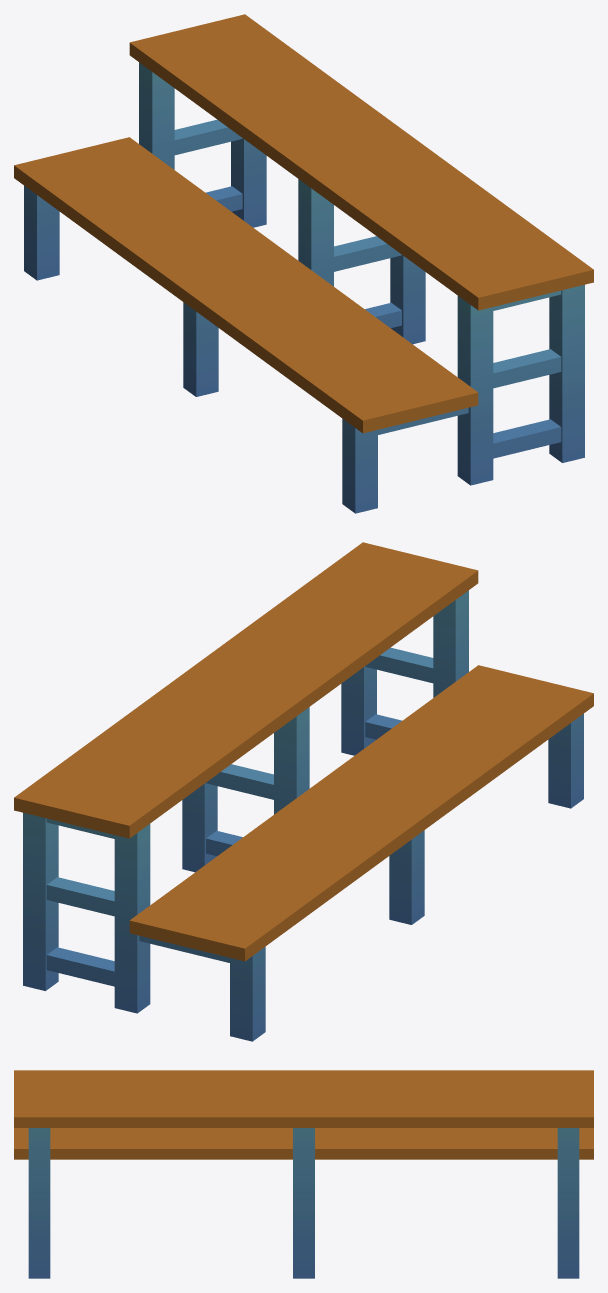
Rendered from Bench_1_B_5.fbx.
3 views of the same model, one above another, from view 1: azimuth 30°, elevation 25°; view 2: azimuth 150°, elevation 25°; view 3: azimuth 270°, elevation 25° (orthographic). The views are drawn at different scales.
Visible parts, largest first — view 1: Bench_1_B_5; view 2: Bench_1_B_5; view 3: Bench_1_B_5.
Part boxes in pixels (x1=…): Bench_1_B_5: x1=14, y1=14, x2=593, y2=513; Bench_1_B_5: x1=14, y1=542, x2=593, y2=1041; Bench_1_B_5: x1=14, y1=1070, x2=593, y2=1278.
Bounding box in the file's own units: 81.37 × 65.4 × 213.
